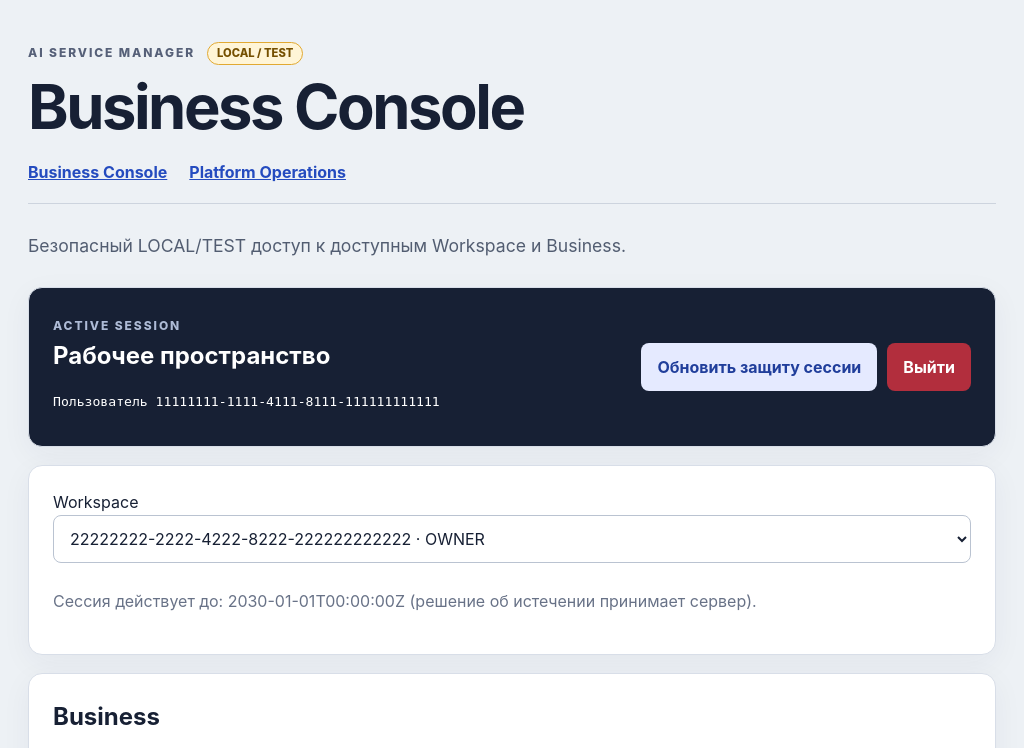
Business Console auth › uses refreshed CSRF after rotation and confirms logout
Check: the text "Пользователь 11111111-1111-4111-8111-111111111111" is shown, box [53,394,440,409]
Click the button "Обновить защиту сессии": [759, 367] box [642,343,877,391]
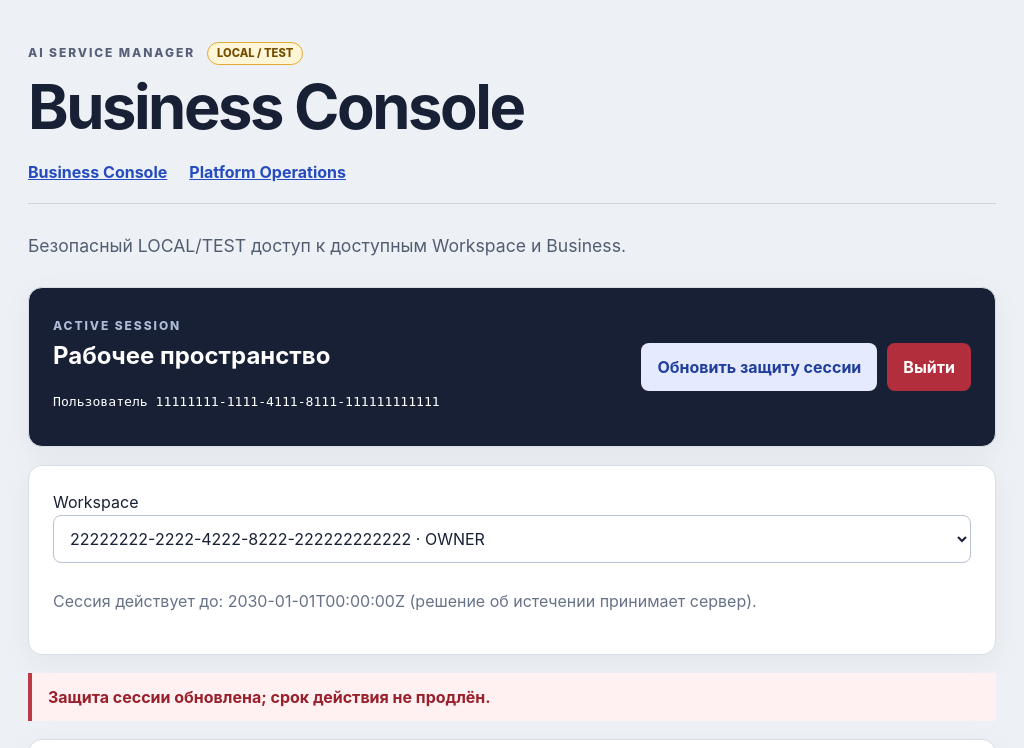
Check: the text "Защита сессии обновлена; срок действия не продлён." is shown, box [28,672,996,721]
Click the button "Выйти": [929, 367] box [887,343,971,391]
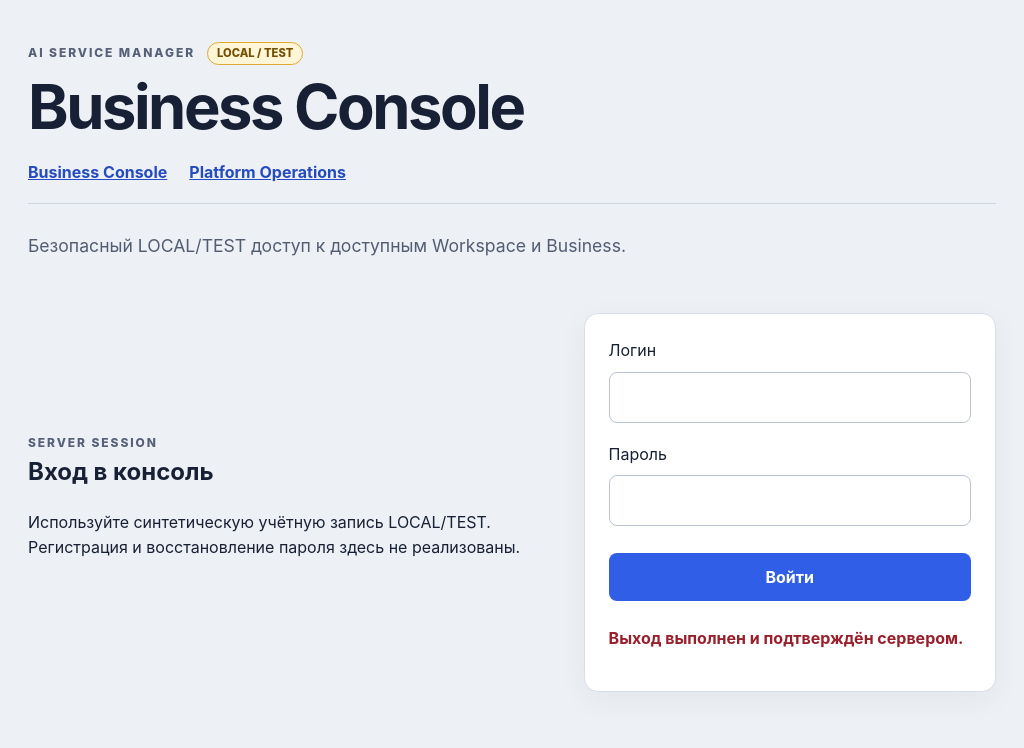
Check: the text "Выход выполнен и подтверждён сервером." is shown, box [608,626,971,651]
